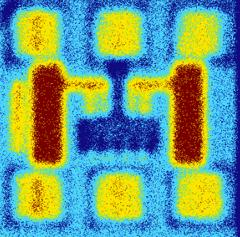Pad 3: (177, 173, 222, 218), (16, 174, 60, 219), (97, 174, 140, 220), (98, 11, 142, 55), (178, 12, 220, 56), (18, 12, 59, 55)
